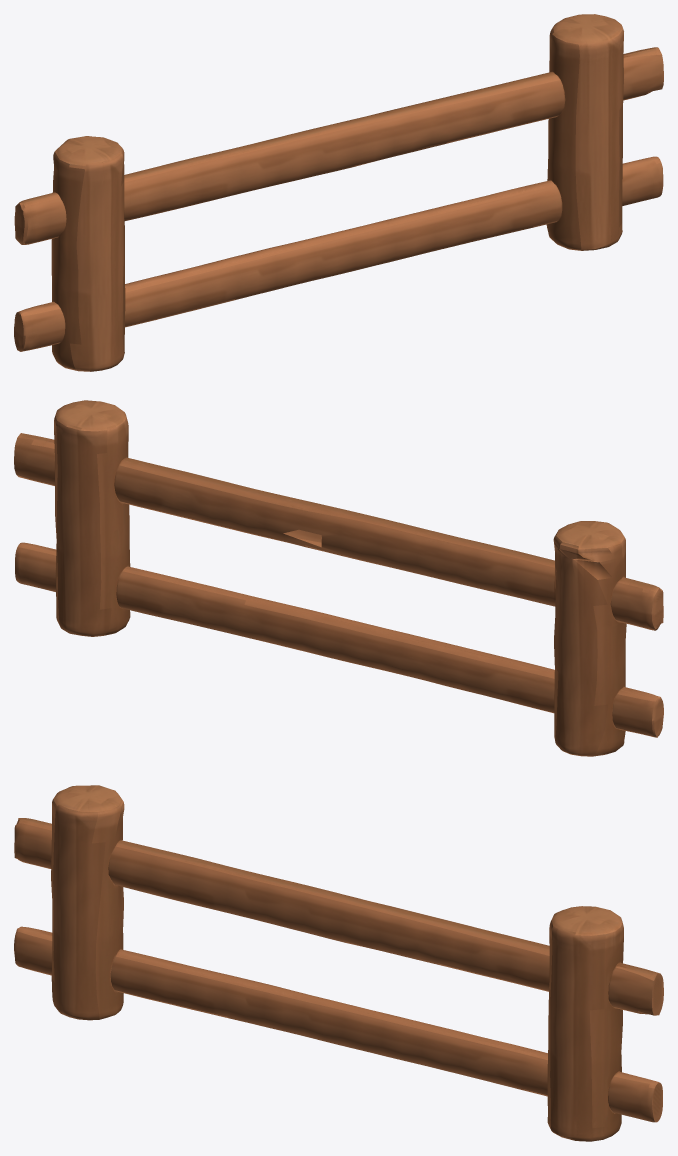
Rendered from fence_rail_3.glb.
3 views of the same model, one above another, from view 1: azimuth 30°, elevation 25°; view 2: azimuth 150°, elevation 25°; view 3: azimuth 330°, elevation 25° (orthographic).
Visible parts, largest first — view 1: Mesh0; view 2: Mesh0; view 3: Mesh0.
Boxes of the visible parts, bbox=[...] form: Mesh0: bbox=[14, 14, 663, 371]; Mesh0: bbox=[14, 400, 663, 756]; Mesh0: bbox=[14, 785, 663, 1141].
Bounding box in the file's own units: 1 × 0.3202 × 0.0992.
Materials: 1 (1 with a texture image).
